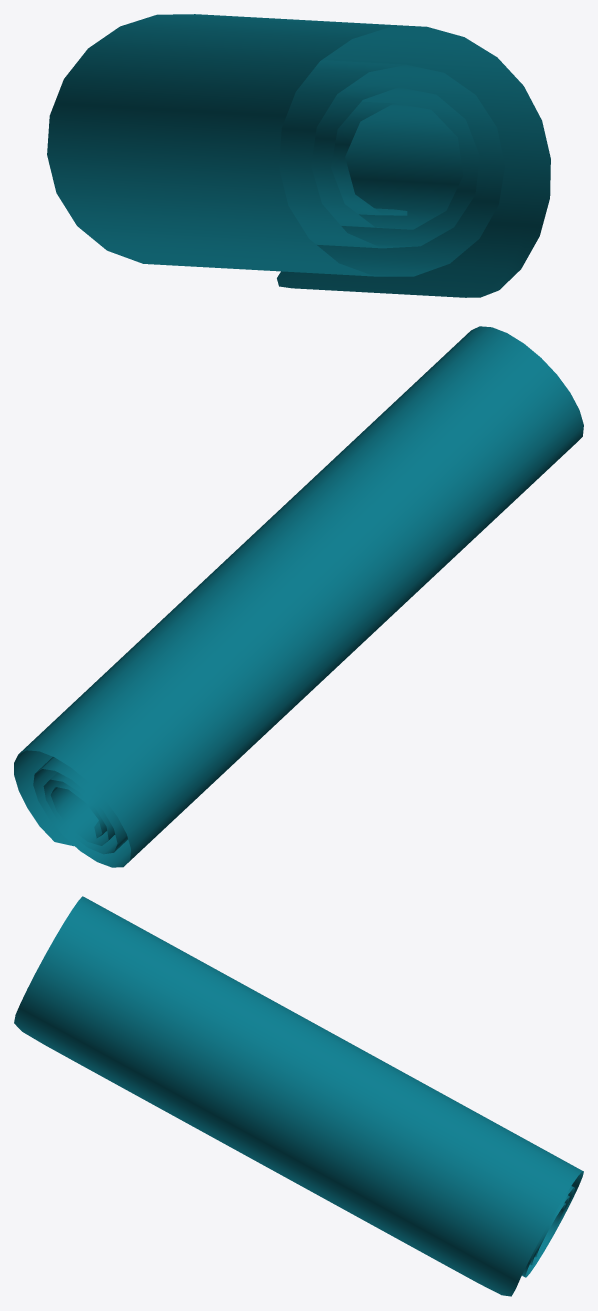
Rendered from blueprint.fbx.
3 views of the same model, one above another, from view 1: azimuth 30°, elevation 25°; view 2: azimuth 150°, elevation 25°; view 3: azimuth 270°, elevation 25° (orthographic). The views are drawn at different scales.
Visible parts, largest first — view 1: Blueprint; view 2: Blueprint; view 3: Blueprint.
Part boxes in pixels (bbox=[...]): Blueprint: bbox=[47, 14, 550, 297]; Blueprint: bbox=[14, 326, 583, 867]; Blueprint: bbox=[14, 896, 583, 1296].
Size of the model in its own units: 65.15 by 79.96 by 130.
